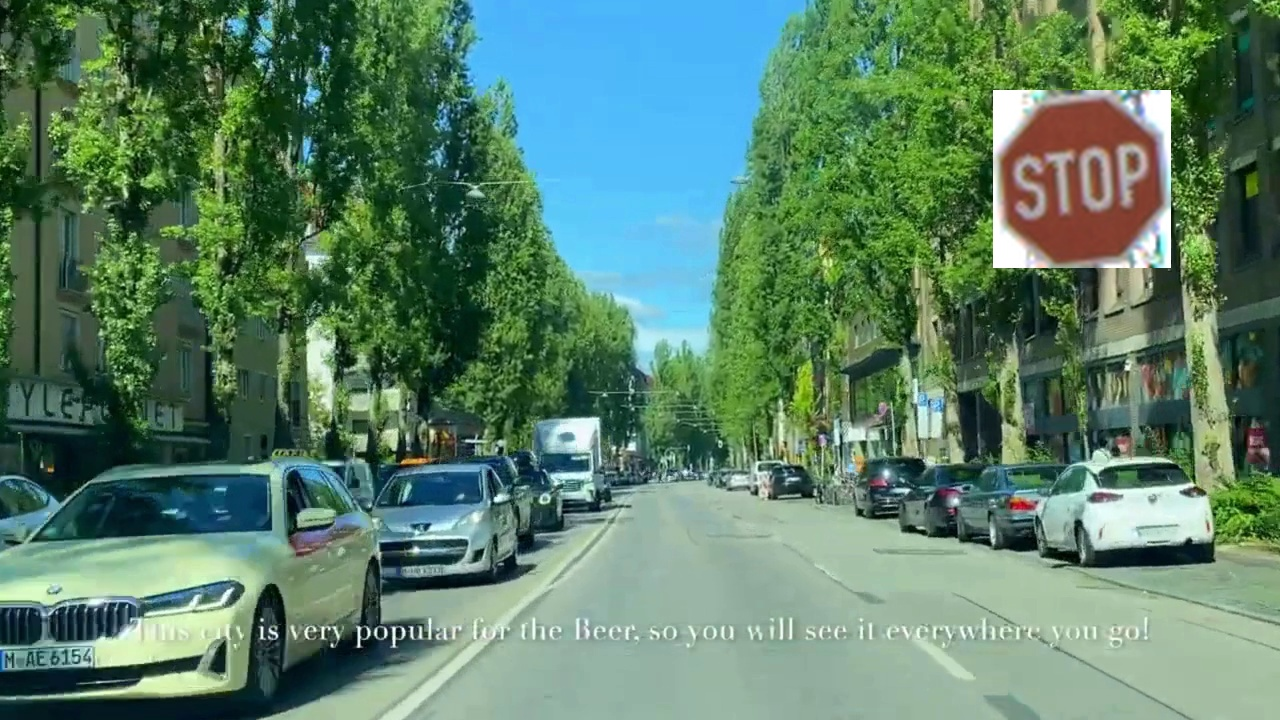Stop: (993, 90, 1171, 268)
